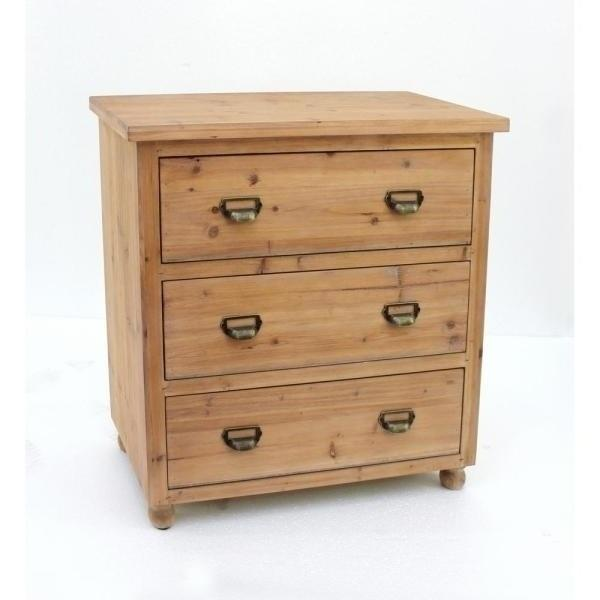cabinet_door: (160, 265, 469, 374), (159, 149, 474, 254), (164, 379, 463, 479)
handle: (218, 310, 268, 350), (218, 191, 268, 230), (379, 296, 425, 334), (218, 421, 266, 457), (382, 186, 426, 221), (377, 405, 418, 441)
